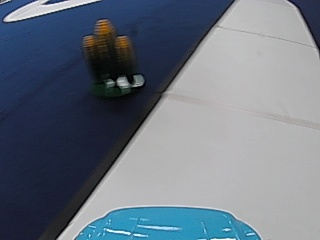corn: (80, 16, 141, 96)
